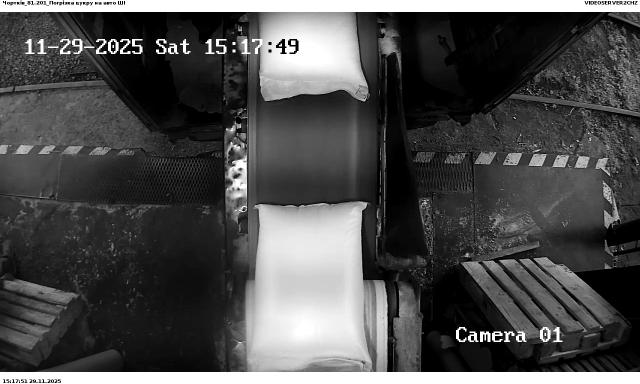bag: (255, 201, 373, 370), (260, 12, 368, 102)
